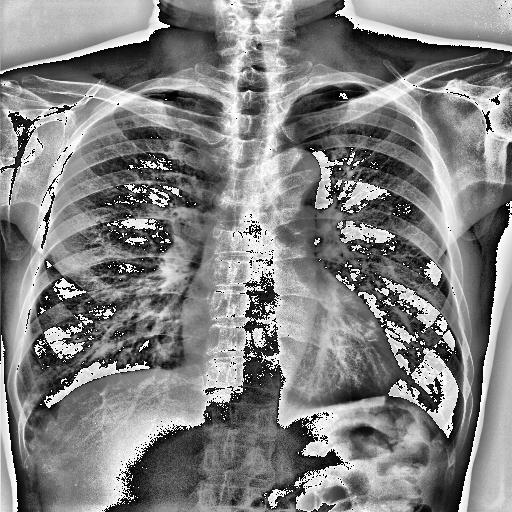0- Aortic enlargement: (262, 148, 320, 196), (268, 146, 322, 194)
10- Pleural effusion: (6, 388, 58, 448), (436, 428, 462, 465)
11- Pleural thickening: (6, 388, 58, 448), (14, 402, 57, 450), (14, 406, 48, 454), (436, 428, 462, 465)
